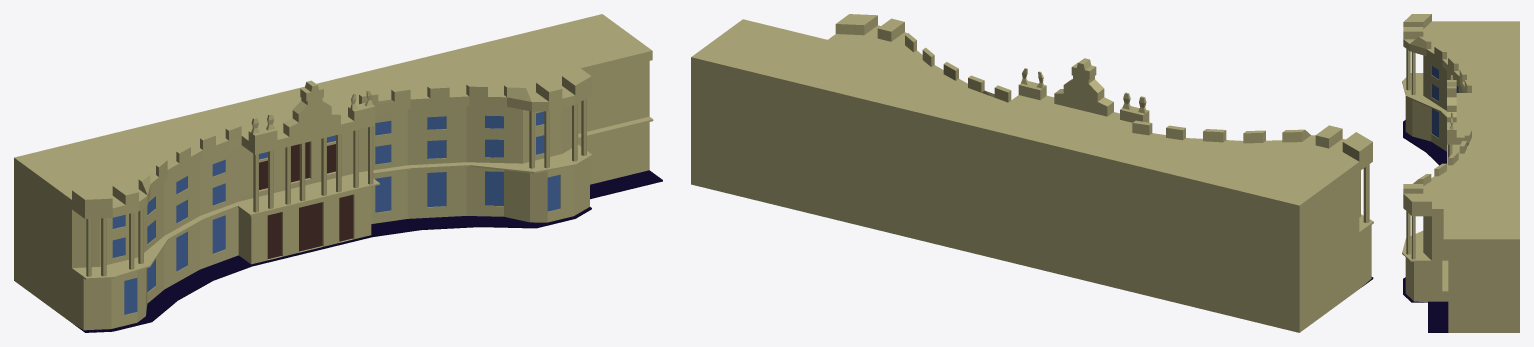
The model's file is Uni.fbx.
3 renders of one model, left to right at view 1: azimuth 30°, elevation 25°; view 2: azimuth 150°, elevation 25°; view 3: azimuth 270°, elevation 25°, orthographic. The views are drawn at different scales.
Visible parts, largest first — view 1: Uni; view 2: Uni; view 3: Uni.
Boxes of the visible parts, left/top/right/bottom form: Uni: left=14, top=14, right=662, bottom=332; Uni: left=691, top=14, right=1373, bottom=332; Uni: left=1402, top=14, right=1519, bottom=332.
Bounding box in the file's own units: 23309 × 6370 × 5321.
